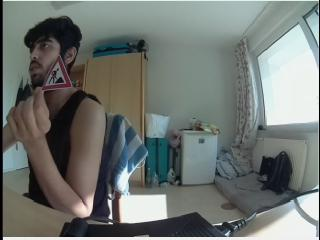construction: (41, 56, 71, 90)
